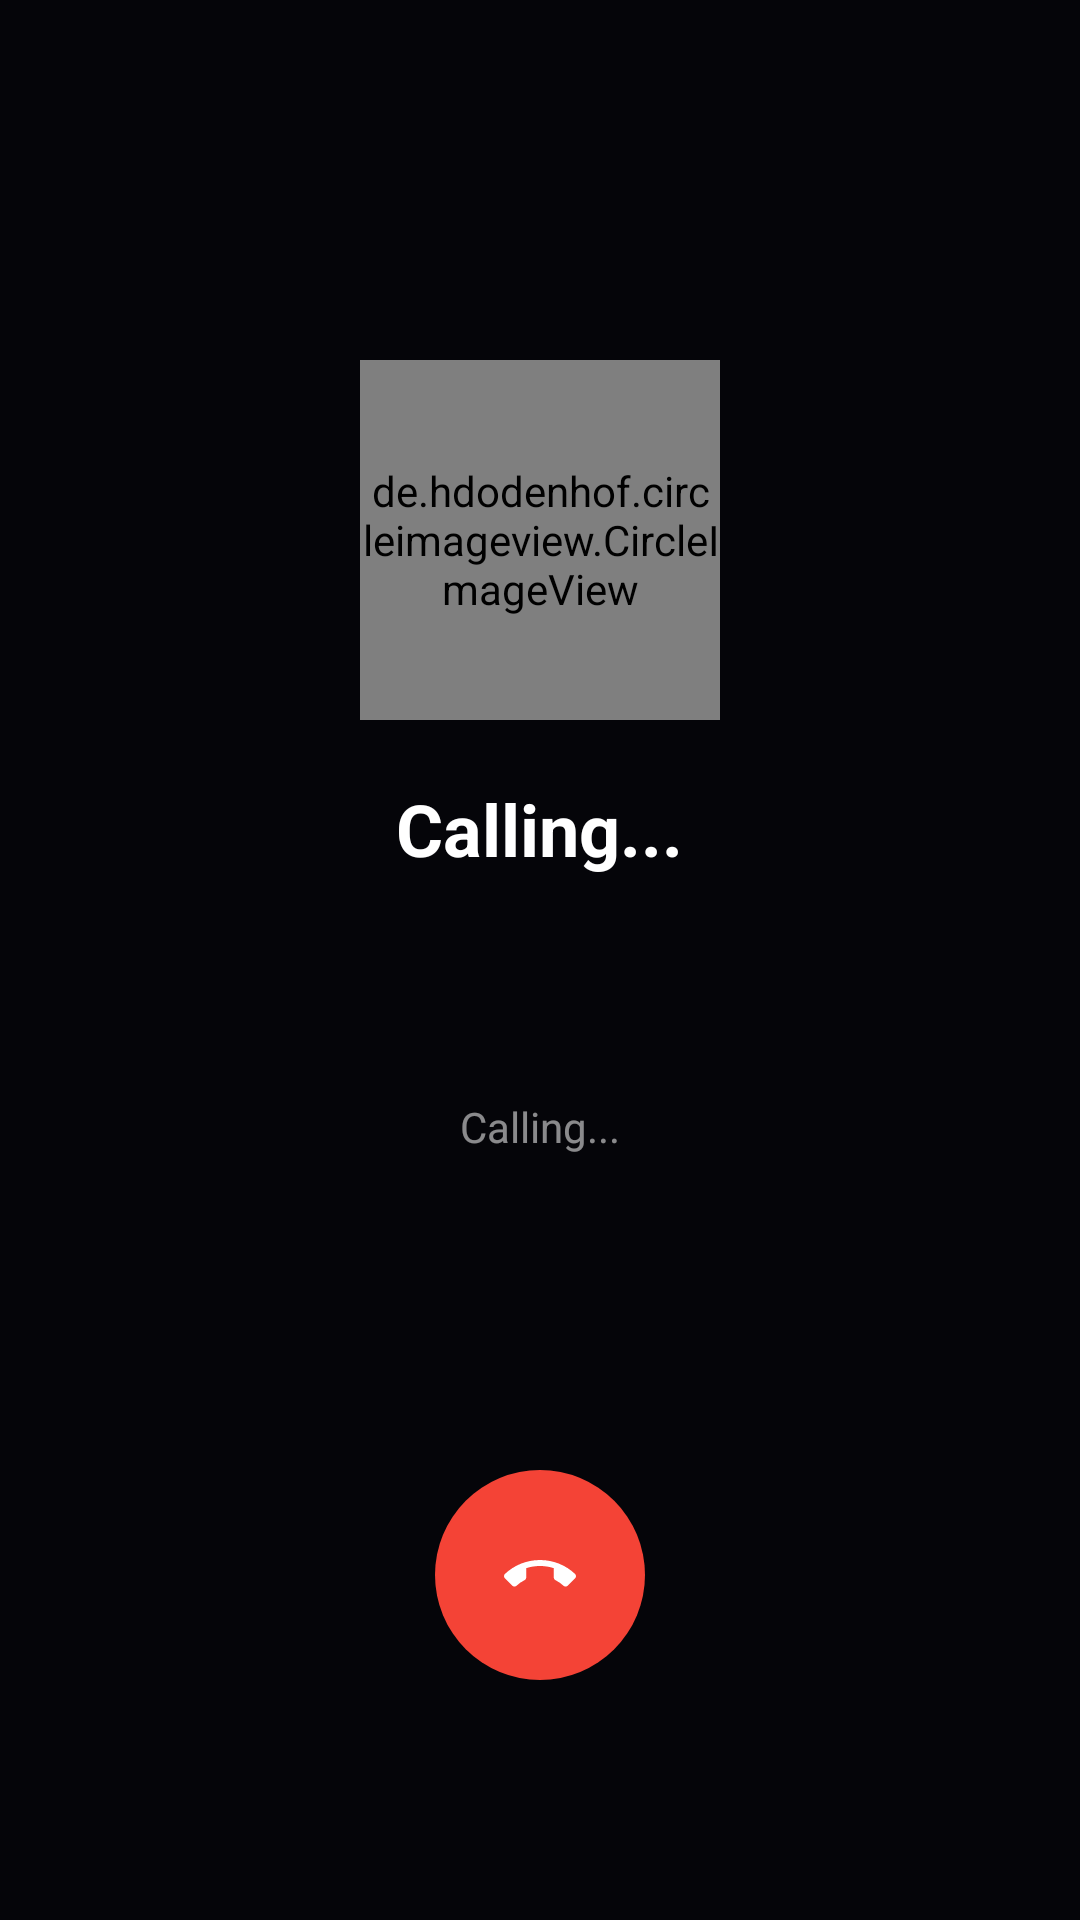

Icon bounding boxes for this 1080px×1920px phone screenshot, format (x1, y1, x2, y2):
Cancel: (435, 1470, 645, 1680)
